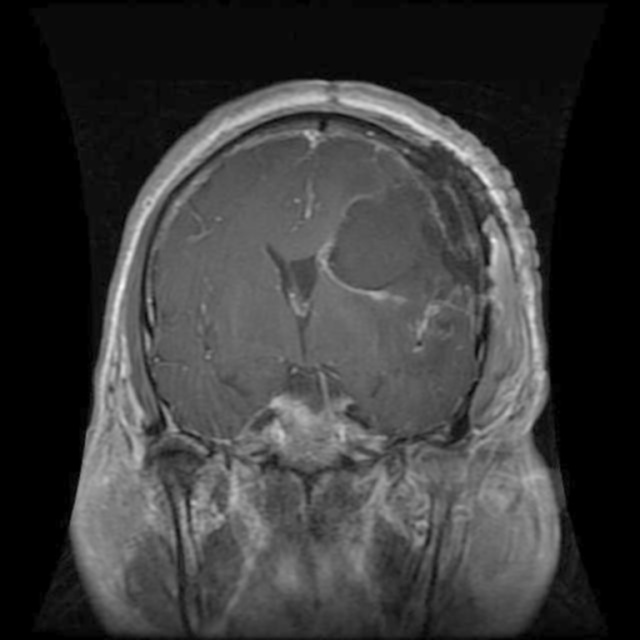pituitary tumor: (321, 200, 424, 285)
